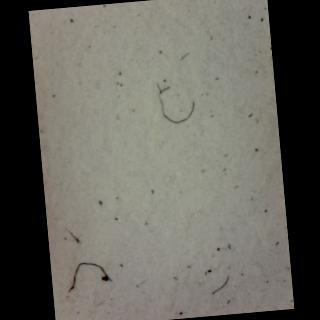Microplastic: (137, 70, 204, 146), (59, 258, 120, 301), (194, 274, 240, 300)
